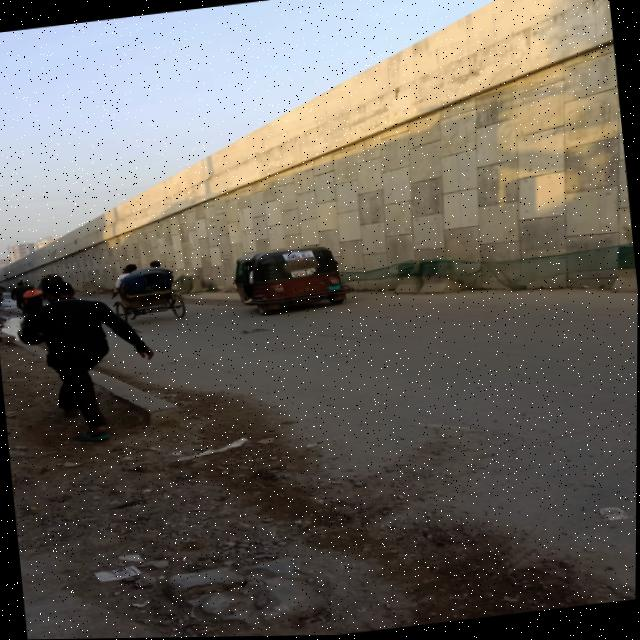cng: (221, 236, 362, 333)
